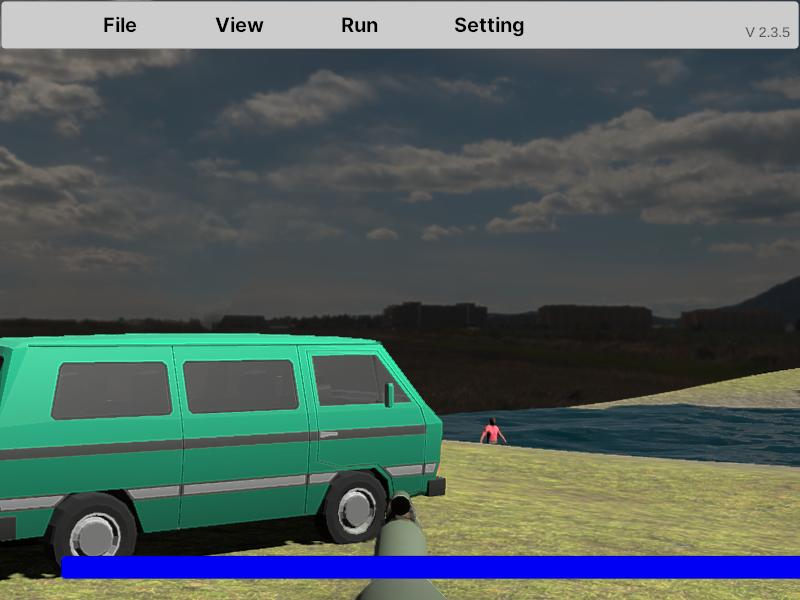Human: (480, 416, 506, 467)
car: (0, 332, 448, 575)
